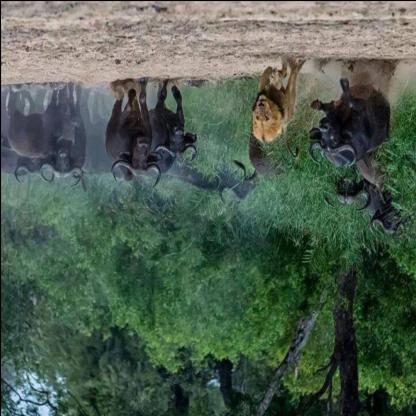lion: (248, 90, 286, 142)
